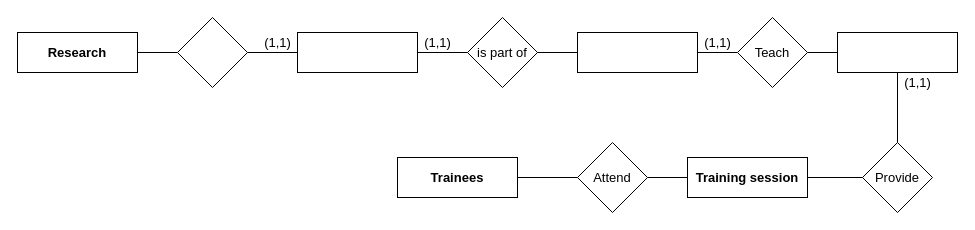
The diagram is 975 pixels wide and 230 high, and some of its shapes have lost their labels. The centre of each missing label's shape, as x and y in pixels:
"Advanced course" goes at pixel 897 52.
"Assign" goes at pixel 212 52.
"Instructor" goes at pixel 357 52.
"Teaching team" goes at pixel 637 52.
